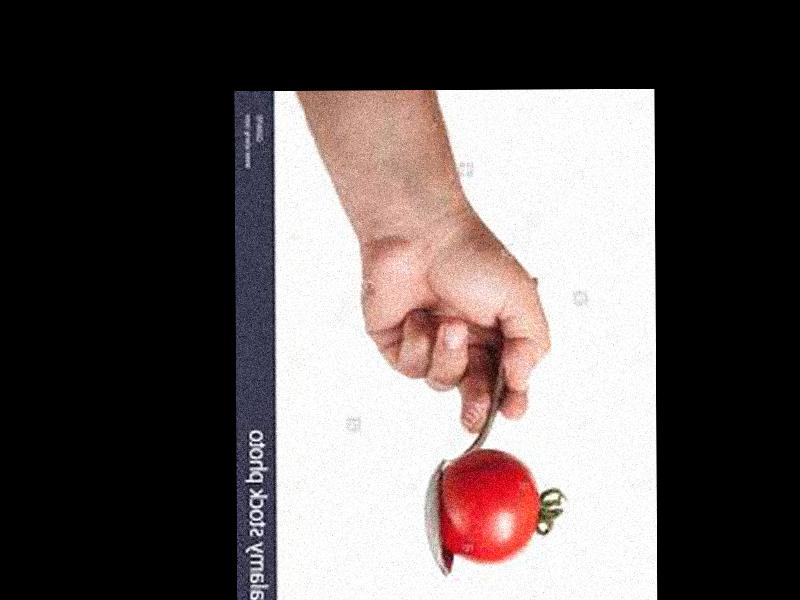Tomato: (441, 448, 540, 562)
